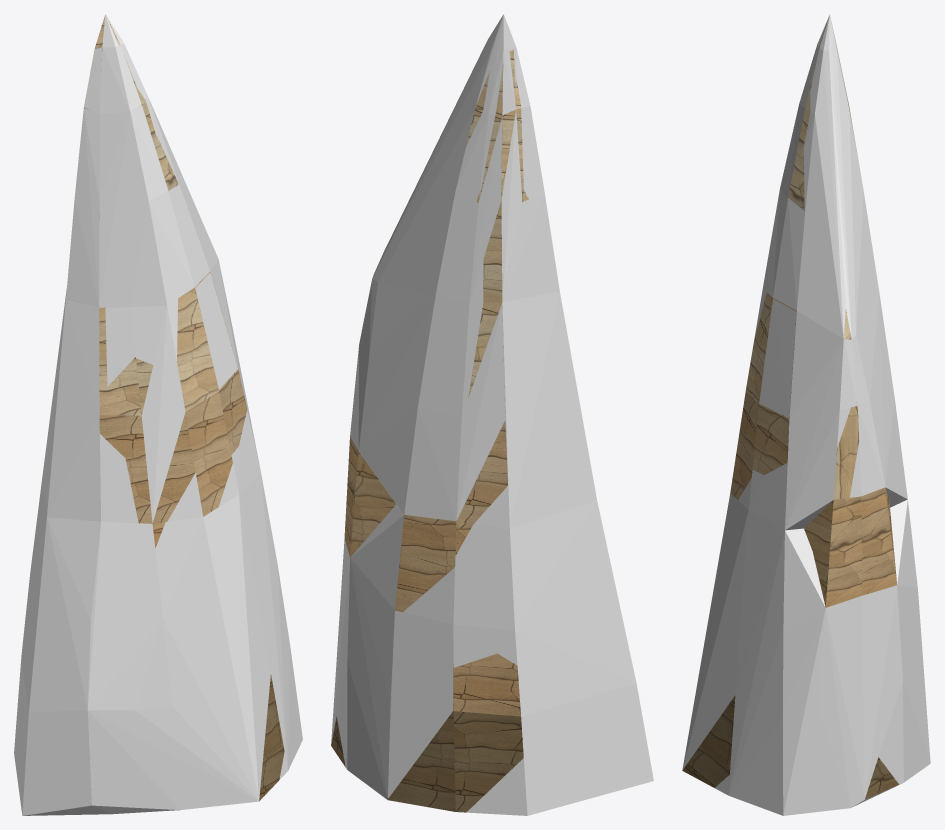
Rendered from rock_spire.glb.
3 renders of one model, left to right at view 1: azimuth 30°, elevation 25°; view 2: azimuth 150°, elevation 25°; view 3: azimuth 270°, elevation 25°, orthographic. The views are drawn at different scales.
Visible parts, largest first — view 1: col_spire_base, col_spire_mid, col_spire_top, RockSpire; view 2: col_spire_base, col_spire_mid, RockSpire, col_spire_top; view 3: col_spire_base, col_spire_mid, col_spire_top, RockSpire.
Boxes of the visible parts, x1,y1,x2,y2 form: col_spire_base: (14,472,302,815); col_spire_mid: (42,259,260,523); col_spire_top: (66,14,218,307); RockSpire: (67,15,284,801); col_spire_base: (331,500,653,815); col_spire_mid: (350,279,596,528); RockSpire: (331,49,528,812); col_spire_top: (372,14,559,303); col_spire_base: (682,493,930,815); col_spire_mid: (738,289,907,530); col_spire_top: (763,14,878,339); RockSpire: (682,19,898,799).
Bounding box in the file's own units: 9.42 × 23.4 × 7.31.
Materials: 2 (1 with a texture image).
